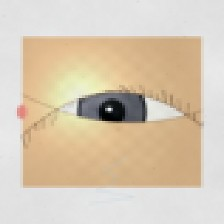foreign_body_visible: (84, 64, 129, 100)
